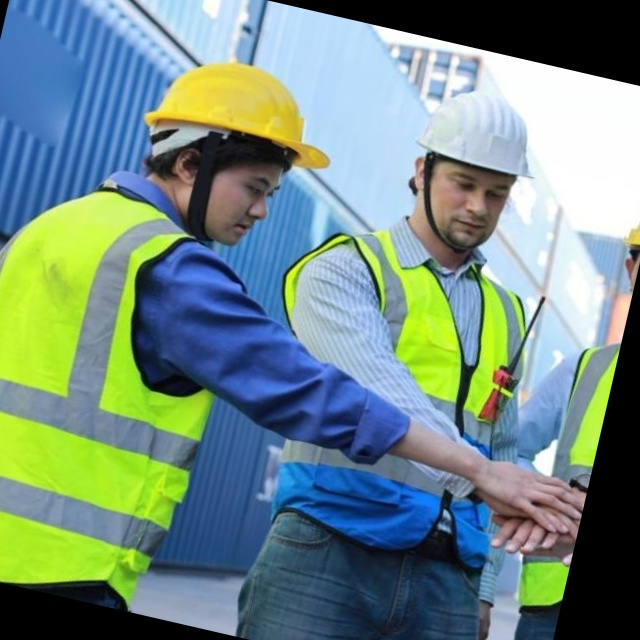Con_Casco: (125, 39, 344, 260), (397, 79, 551, 261)
Con_Chaleco: (0, 169, 253, 620), (247, 221, 556, 565)
